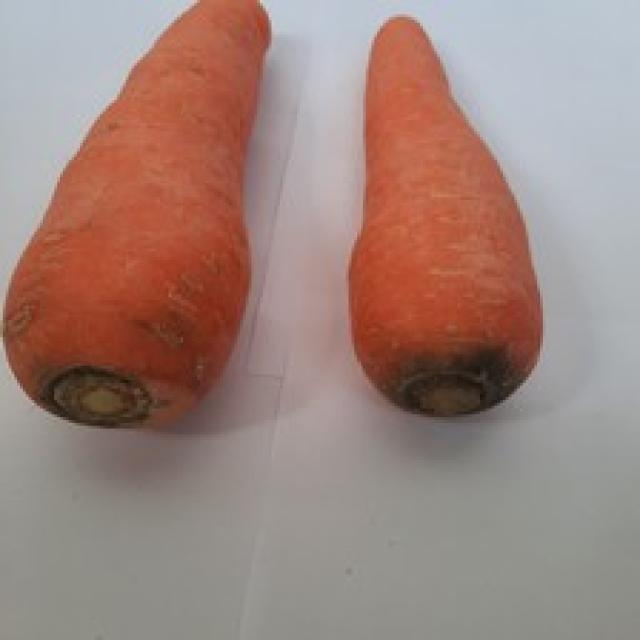Fresh_Carrot: (0, 0, 263, 399), (361, 26, 531, 369)
